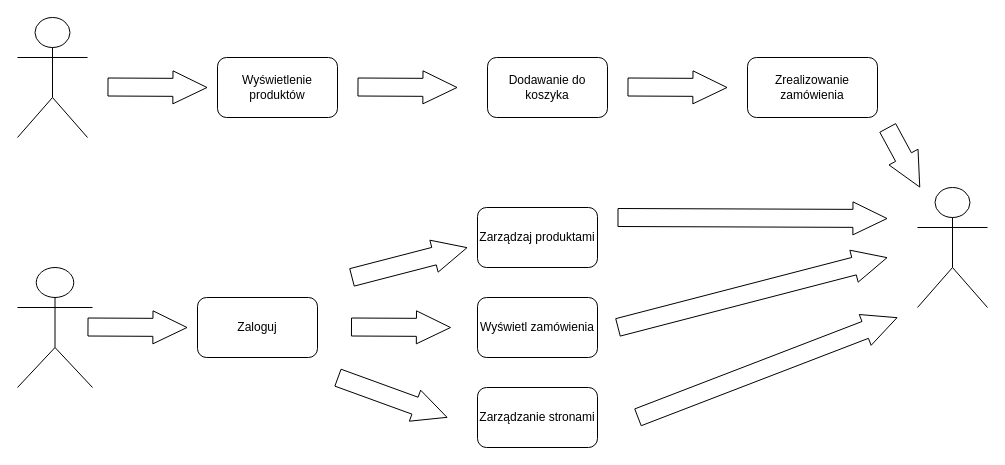
This 1005x465 diagram has some shape labels left out. Here are the shapes that lost their labels. From the top down, the centre of each, then its label:
point (52, 77): Klient
point (952, 247): Sklep
point (54, 327): Pracownik
